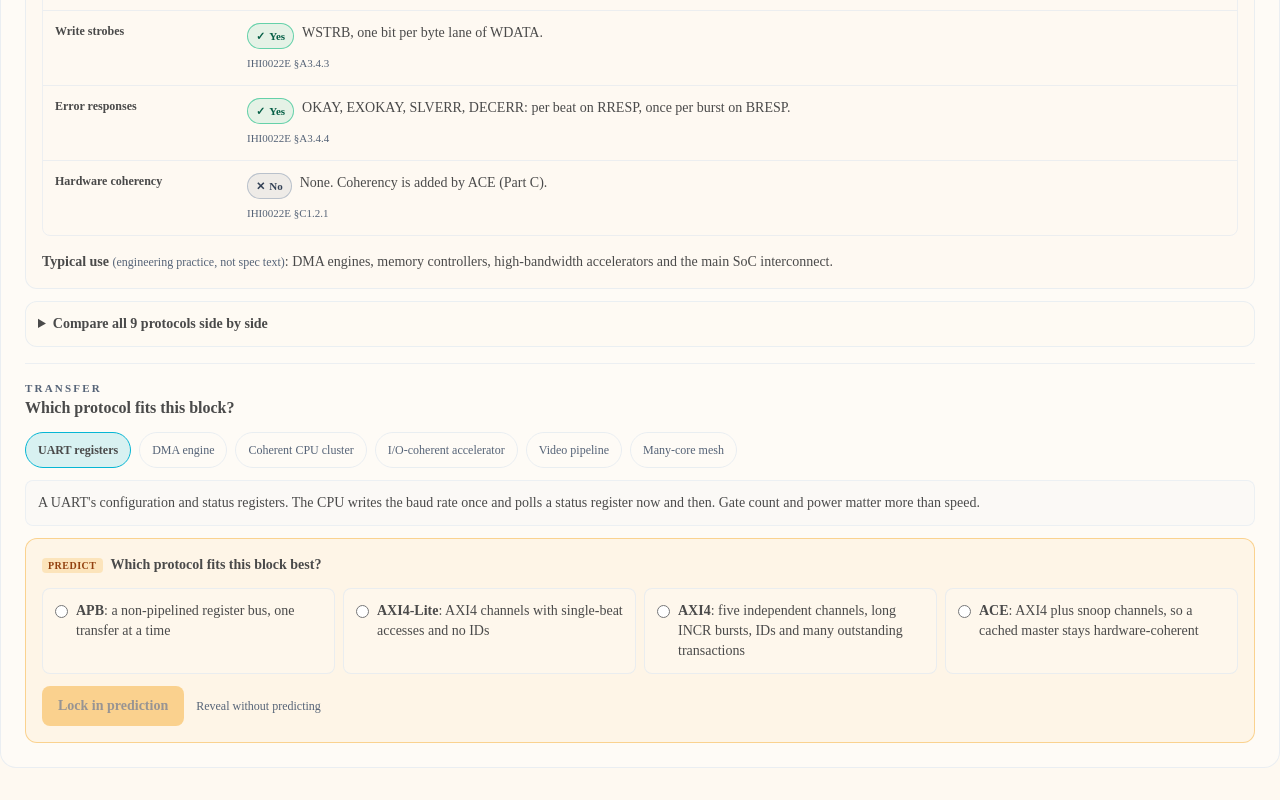
it: AmbaFamilyExplorer › hides the fit check until the learner commits a prediction
The image size is (1280, 800).
(page scrolled)
What coordinates should you click on to do the following:
click the radio button labelled "APB: a non-pipelined register bus, one transfer at a time"
I would click on:
 (62, 612)
Its box is [55,605,68,618].
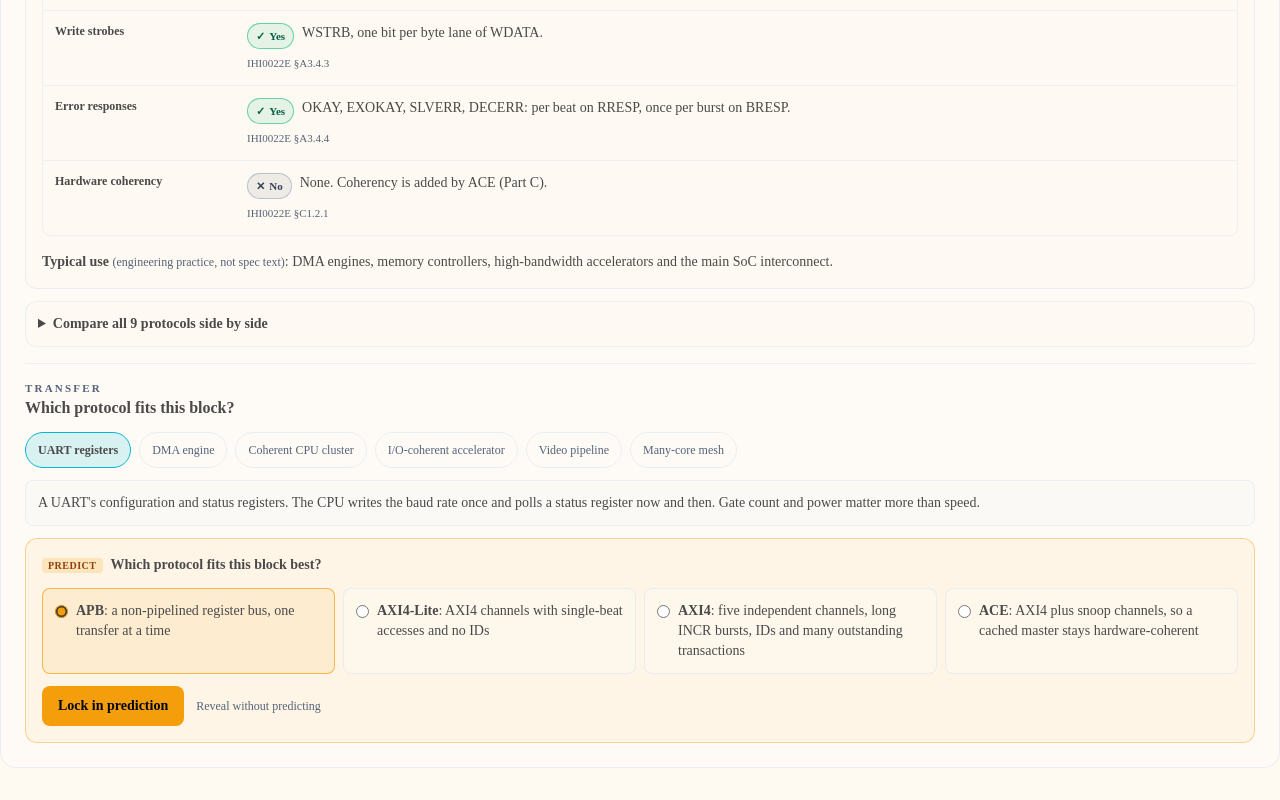
What coordinates should you click on to do the following:
click the button "Lock in prediction"
I would click on:
 (113, 706)
Its box is [42,686,184,726].
(page scrolled)
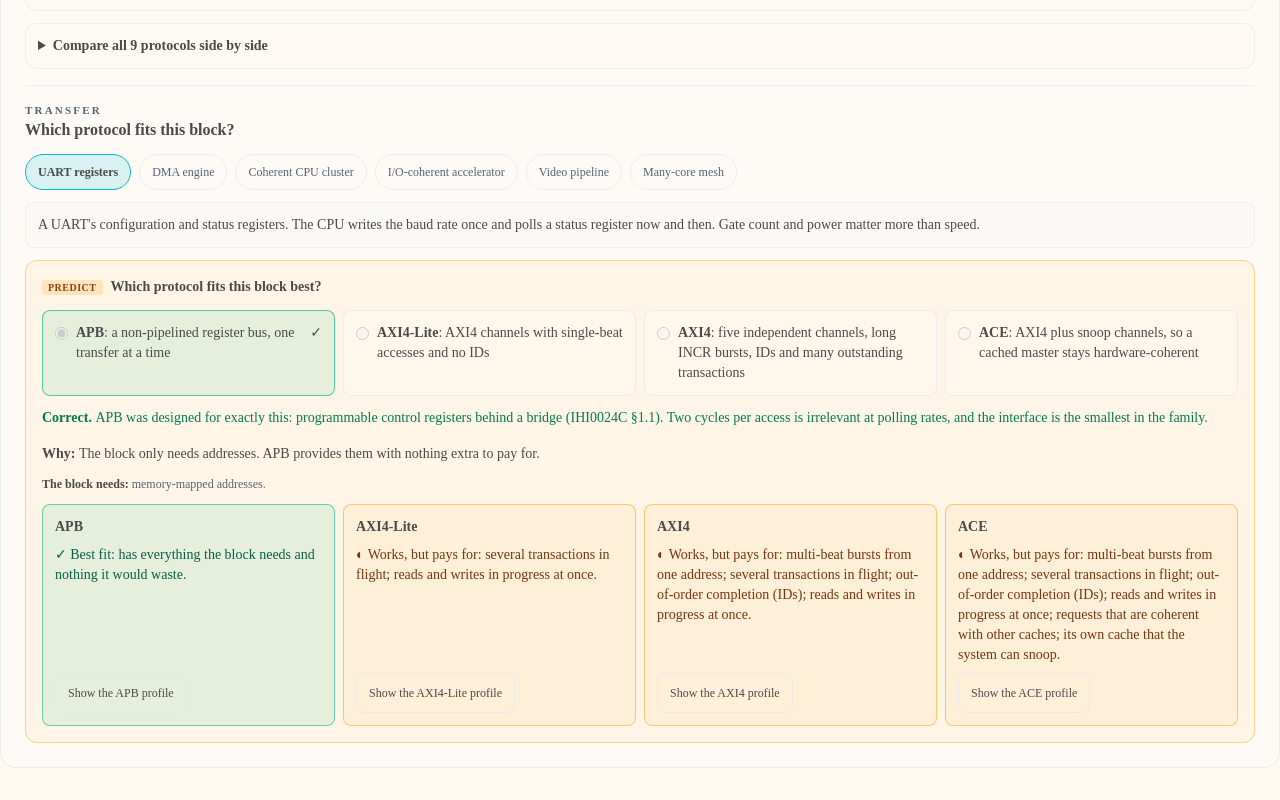
Now the text "Correct." is shown, box [42,410,95,425]
Now the text "Best fit" is shown, box [55,547,315,582]
Now the text "Works, but pays for: several transactions in flight" is shown, box [356,545,623,585]
